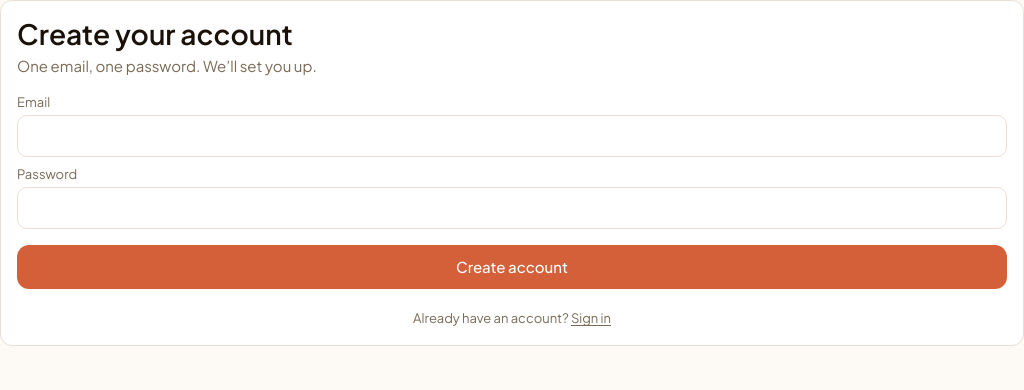
<SignUpPage> › explicit error → friendly copy via AuthErrorDisplay
The image size is (1024, 390).
Type "new@test.local" into the field labelled "Email" at (512, 136), box [17,115,1007,157]
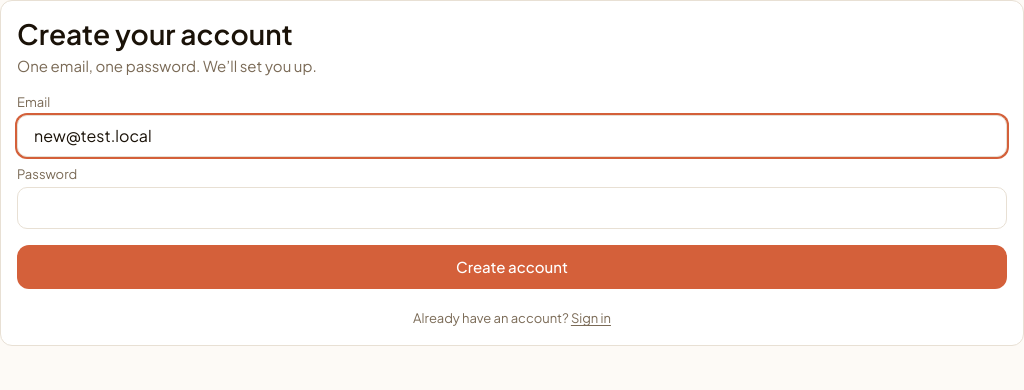
Type "Hunter2pass!" into the password field labelled "Password" at (512, 208), box [17,188,1007,230]
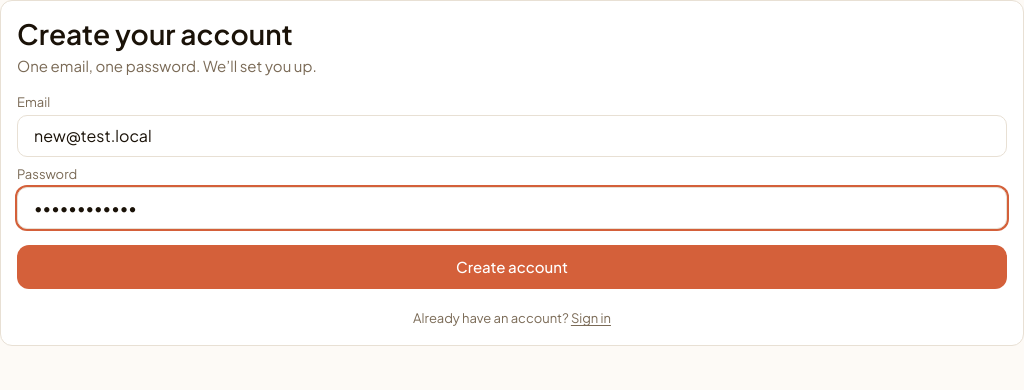
Click the button "Create account" at (512, 268), box [17,246,1007,290]
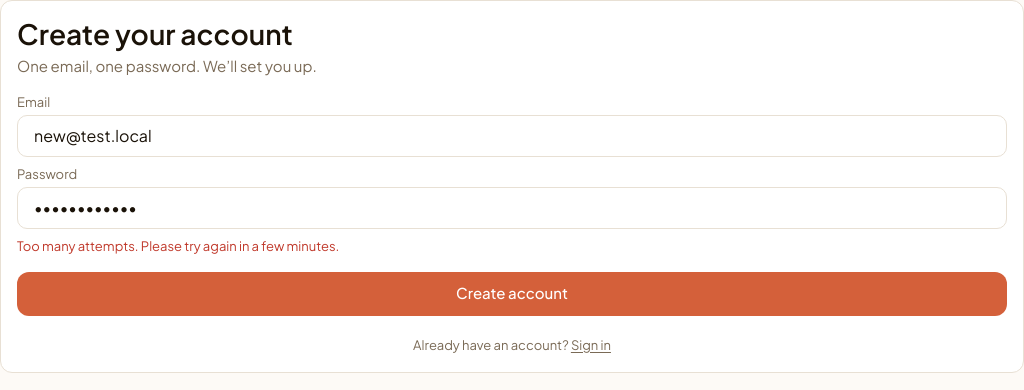
Expected: the message shows "Too many attempts", [17,238,339,254]
